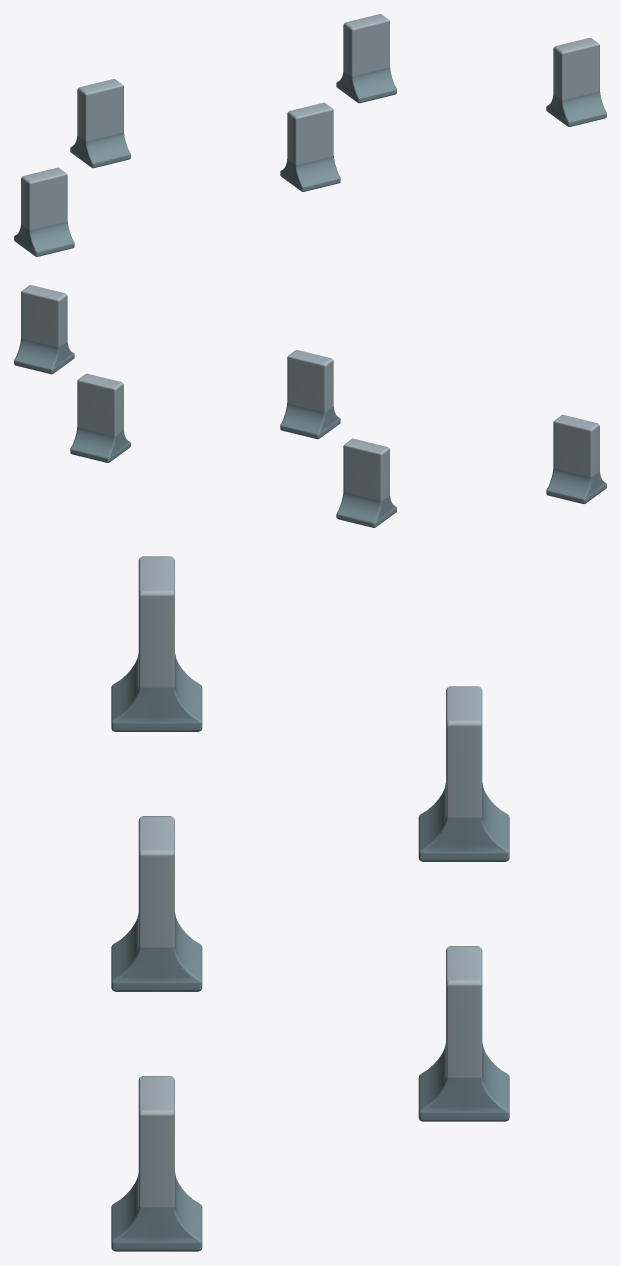
File: Props.fbx
The picture shows the model from 3 angles, top to bottom: view 1: azimuth 30°, elevation 25°; view 2: azimuth 150°, elevation 25°; view 3: azimuth 270°, elevation 25°; orthographic projection. The views are drawn at different scales.
Visible parts, largest first — view 1: 曲面单元 (×5); view 2: 曲面单元 (×5); view 3: 曲面单元 (×5).
Part boxes in pixels (x1=…): 曲面单元 (×5): x1=14, y1=14, x2=606, y2=256; 曲面单元 (×5): x1=14, y1=285, x2=606, y2=527; 曲面单元 (×5): x1=111, y1=556, x2=509, y2=1251.
Size of the model in its own units: 42.95 by 5.02 by 12.96.
